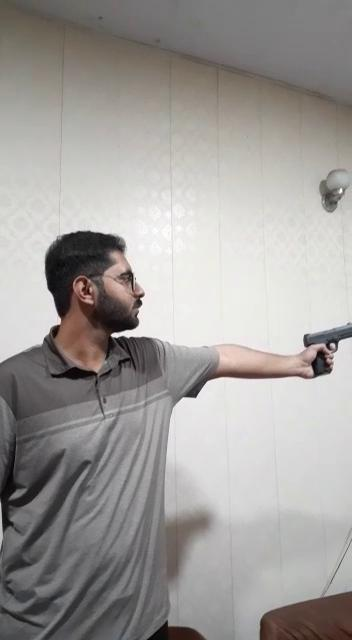criminal: (0, 225, 352, 640)
weapon: (296, 319, 352, 381)
